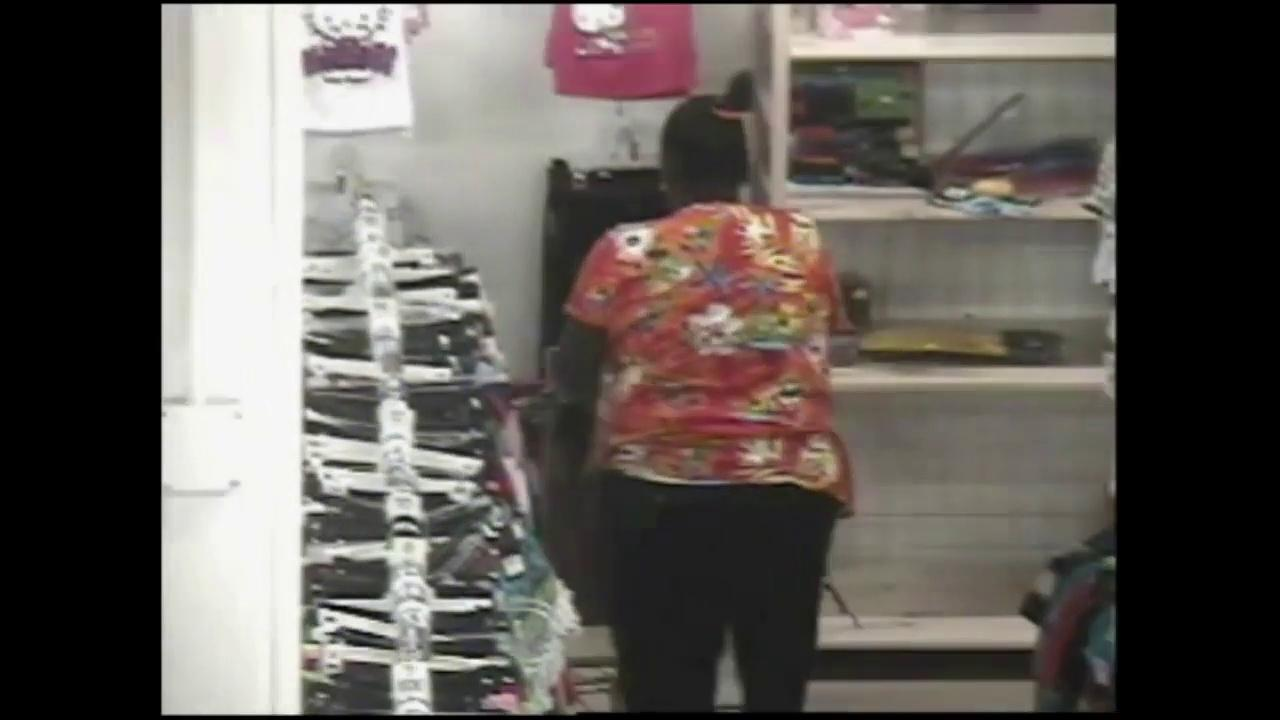Regular: (445, 21, 899, 720)
Shopping-Cart: (504, 370, 602, 626)
